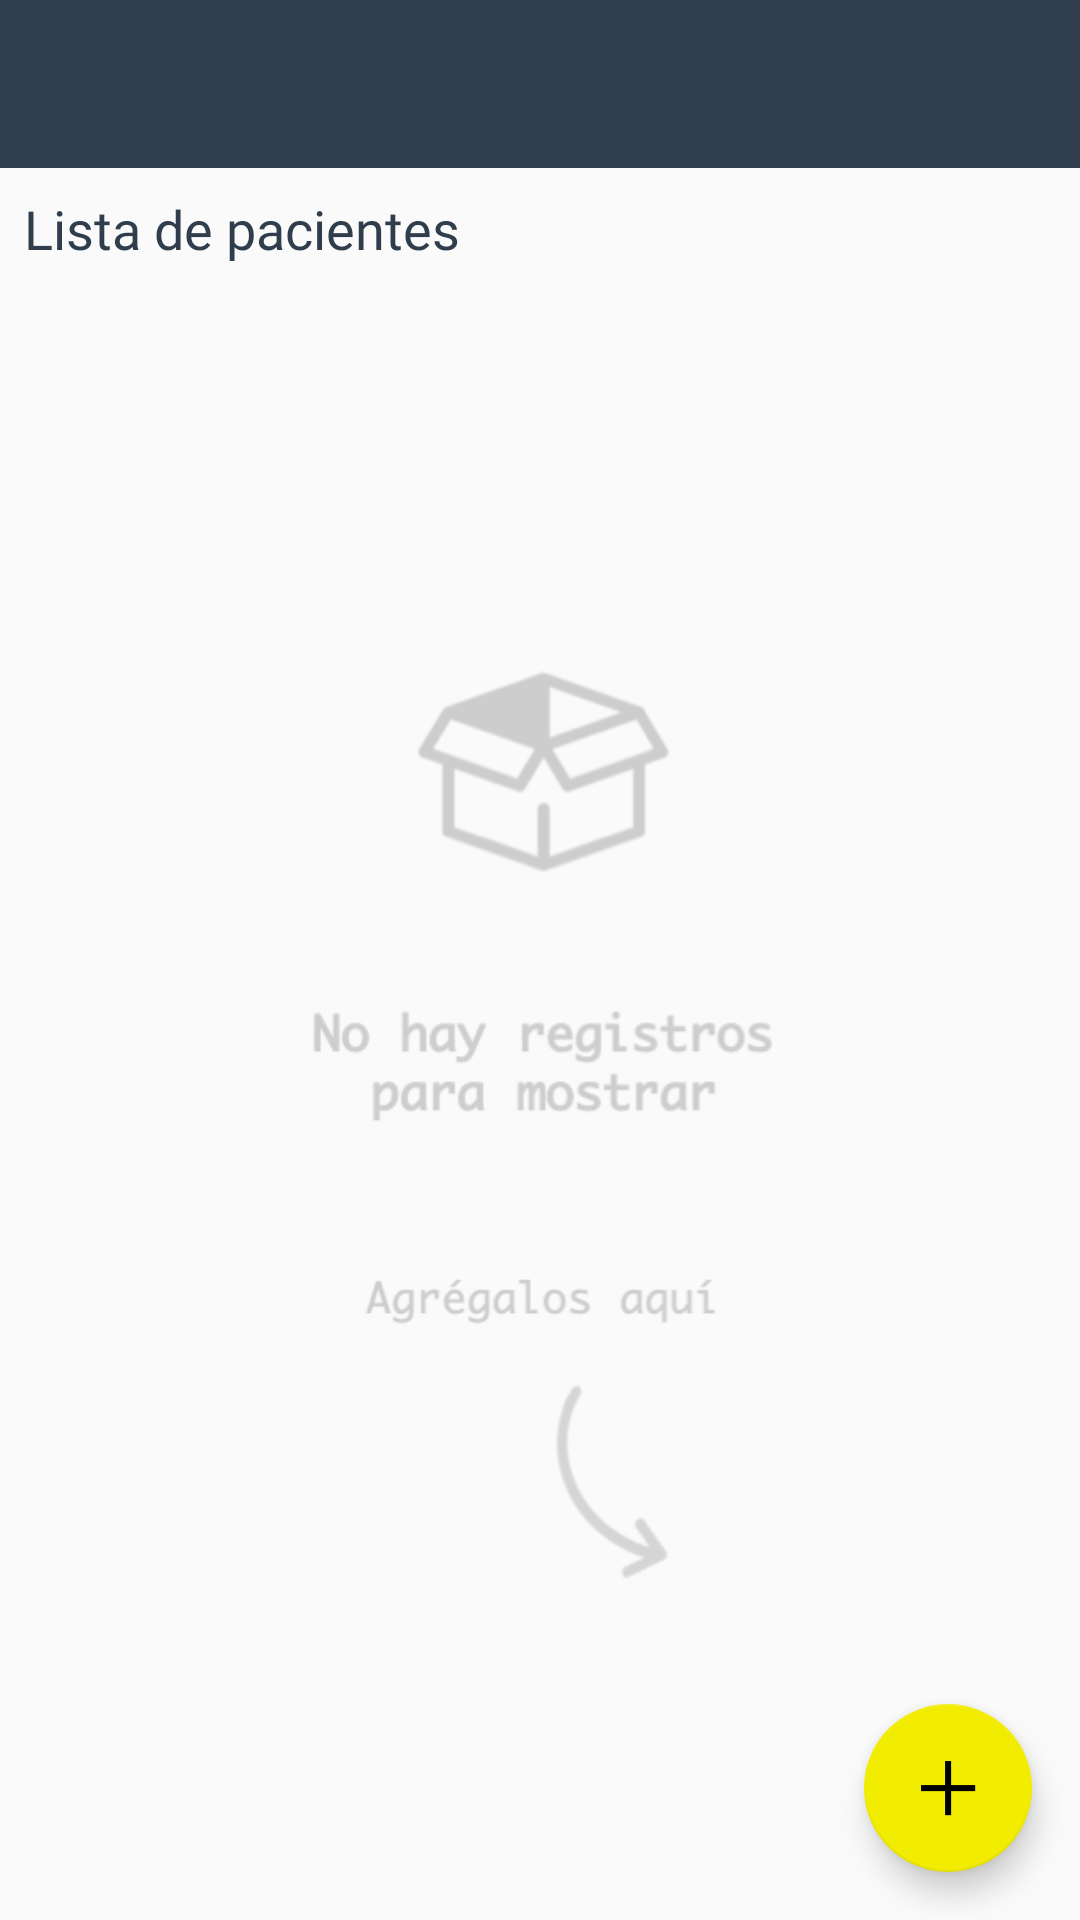

Where to tap for icons on this 1080*1920 app screen, as (x=x, y=y):
aumentar: (x=948, y=1788)
